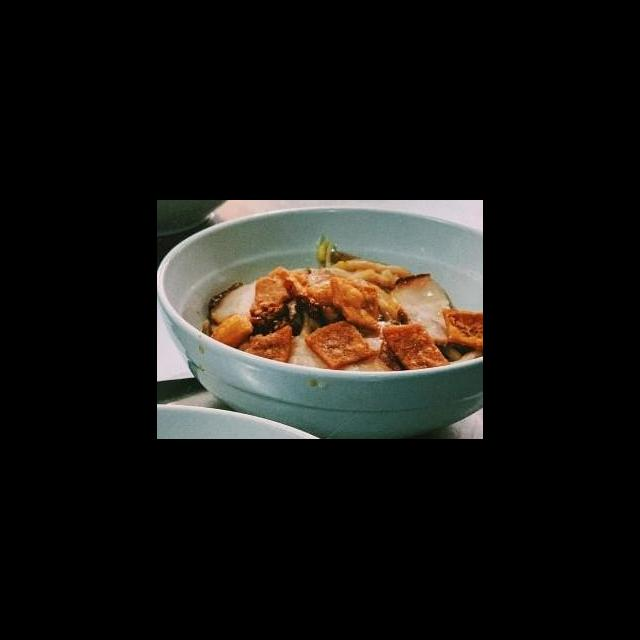banh da: (247, 264, 316, 328), (375, 320, 451, 374), (303, 318, 378, 372), (326, 276, 385, 336), (234, 322, 295, 366), (439, 306, 483, 352), (206, 314, 254, 352)
mi: (323, 258, 416, 298)
mi quang: (161, 218, 483, 440)
thit heo: (286, 266, 399, 330), (205, 272, 304, 334), (389, 272, 466, 348), (284, 332, 404, 374)
